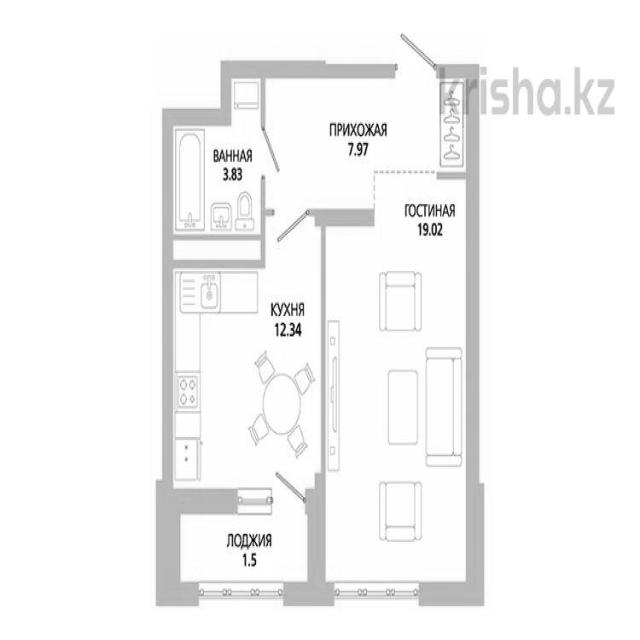balcony: (176, 513, 310, 586)
bathroom: (172, 123, 260, 235)
hallway: (266, 85, 438, 195)
kitchen: (174, 270, 324, 481)
living_room: (325, 220, 471, 596)
